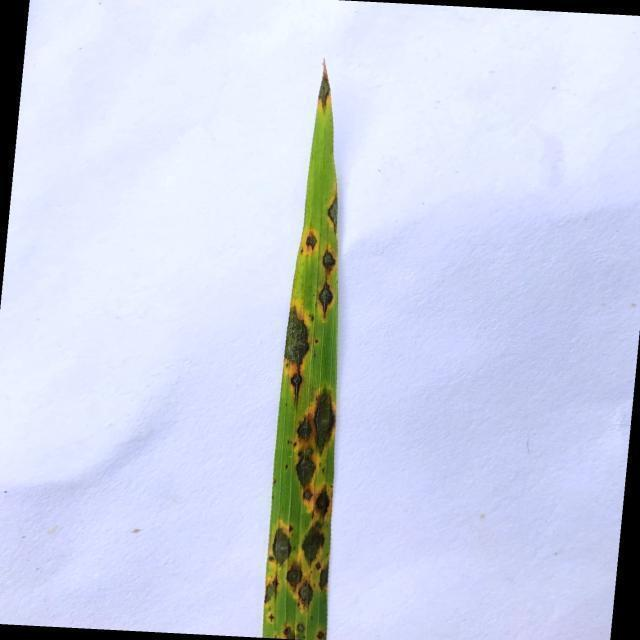Leaf_Blast: (305, 385, 338, 456), (282, 305, 312, 370), (266, 522, 295, 570), (298, 521, 326, 570), (313, 58, 336, 115), (293, 445, 318, 492), (313, 280, 339, 322), (311, 482, 333, 523), (284, 561, 308, 594), (325, 185, 341, 234), (294, 412, 316, 446), (318, 246, 340, 277), (297, 225, 319, 255), (297, 578, 316, 611), (288, 370, 304, 408), (264, 577, 280, 605), (315, 558, 329, 589), (276, 624, 297, 640), (300, 487, 316, 504), (312, 558, 325, 574), (314, 625, 327, 640), (295, 621, 308, 635), (267, 614, 277, 623)
